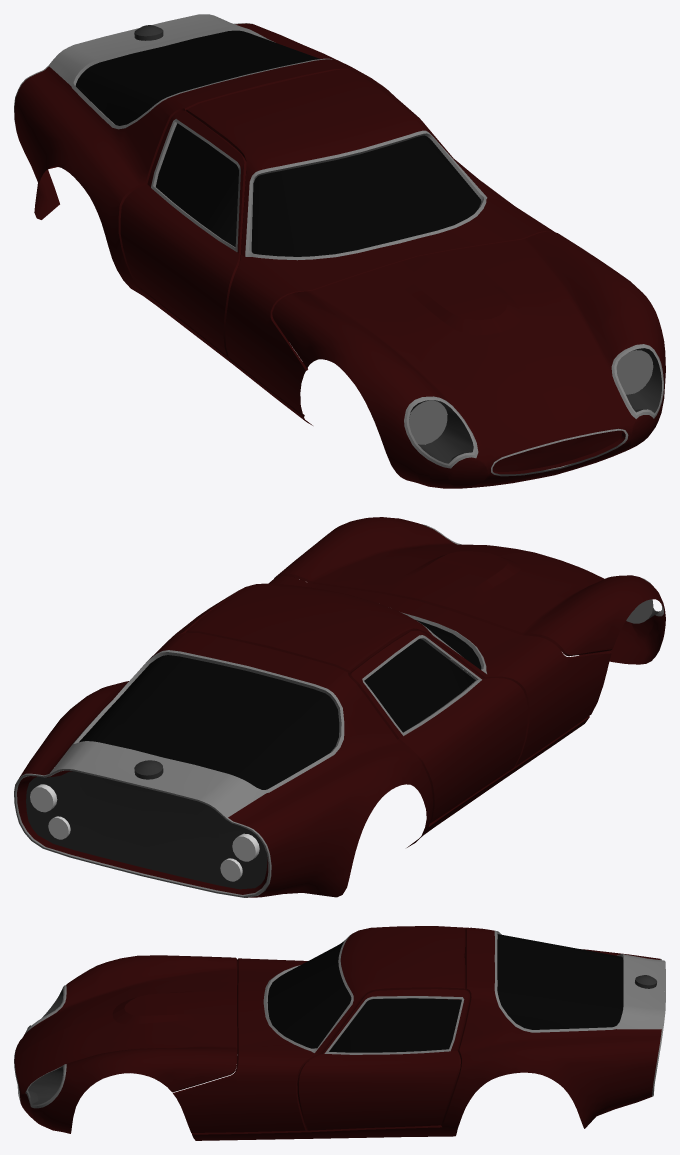
The model's file is sambuca_elegance.fbx.
3 views of the same model, one above another, from view 1: azimuth 30°, elevation 25°; view 2: azimuth 150°, elevation 25°; view 3: azimuth 270°, elevation 25° (orthographic). The views are drawn at different scales.
Visible parts, largest first — view 1: Hood_paintable, Windows, RearFender_paintable, Roof_paintable, Chrome, FrontFender_Paintable, Doors_paintable, Details, Mesh (2); view 2: Windows, Hood_paintable, RearFender_paintable, Details, Chrome, Roof_paintable, Doors_paintable, FrontFender_Paintable, Mesh (2); view 3: Hood_paintable, Windows, RearFender_paintable, Doors_paintable, FrontFender_Paintable, Roof_paintable, Chrome.
Part boxes in pixels (<box>): Hood_paintable: <box>272,231,665,488</box>; Windows: <box>75,30,481,256</box>; RearFender_paintable: <box>14,23,394,425</box>; Roof_paintable: <box>186,69,473,256</box>; Chrome: <box>14,14,663,476</box>; FrontFender_Paintable: <box>225,195,554,415</box>; Doors_paintable: <box>120,69,512,355</box>; Details: <box>134,25,622,471</box>; Mesh (2): <box>409,350,653,444</box>; Windows: <box>79,620,481,789</box>; Hood_paintable: <box>274,517,665,664</box>; RearFender_paintable: <box>19,632,589,897</box>; Details: <box>26,760,267,889</box>; Chrome: <box>14,524,663,897</box>; Roof_paintable: <box>186,583,487,678</box>; Doors_paintable: <box>171,588,527,823</box>; FrontFender_Paintable: <box>268,576,611,766</box>; Mesh (2): <box>30,599,653,881</box>; Hood_paintable: <box>14,955,237,1133</box>; Windows: <box>267,934,623,1052</box>; RearFender_paintable: <box>191,927,661,1140</box>; Doors_paintable: <box>297,926,469,1130</box>; FrontFender_Paintable: <box>173,958,320,1132</box>; Roof_paintable: <box>315,926,465,1054</box>; Chrome: <box>14,931,665,1108</box>.
Size of the model in its own units: 20.47 by 11.56 by 47.11.
